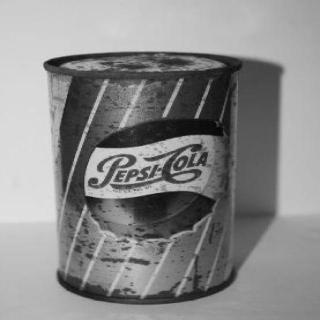alumunium_can: (44, 50, 243, 304)
